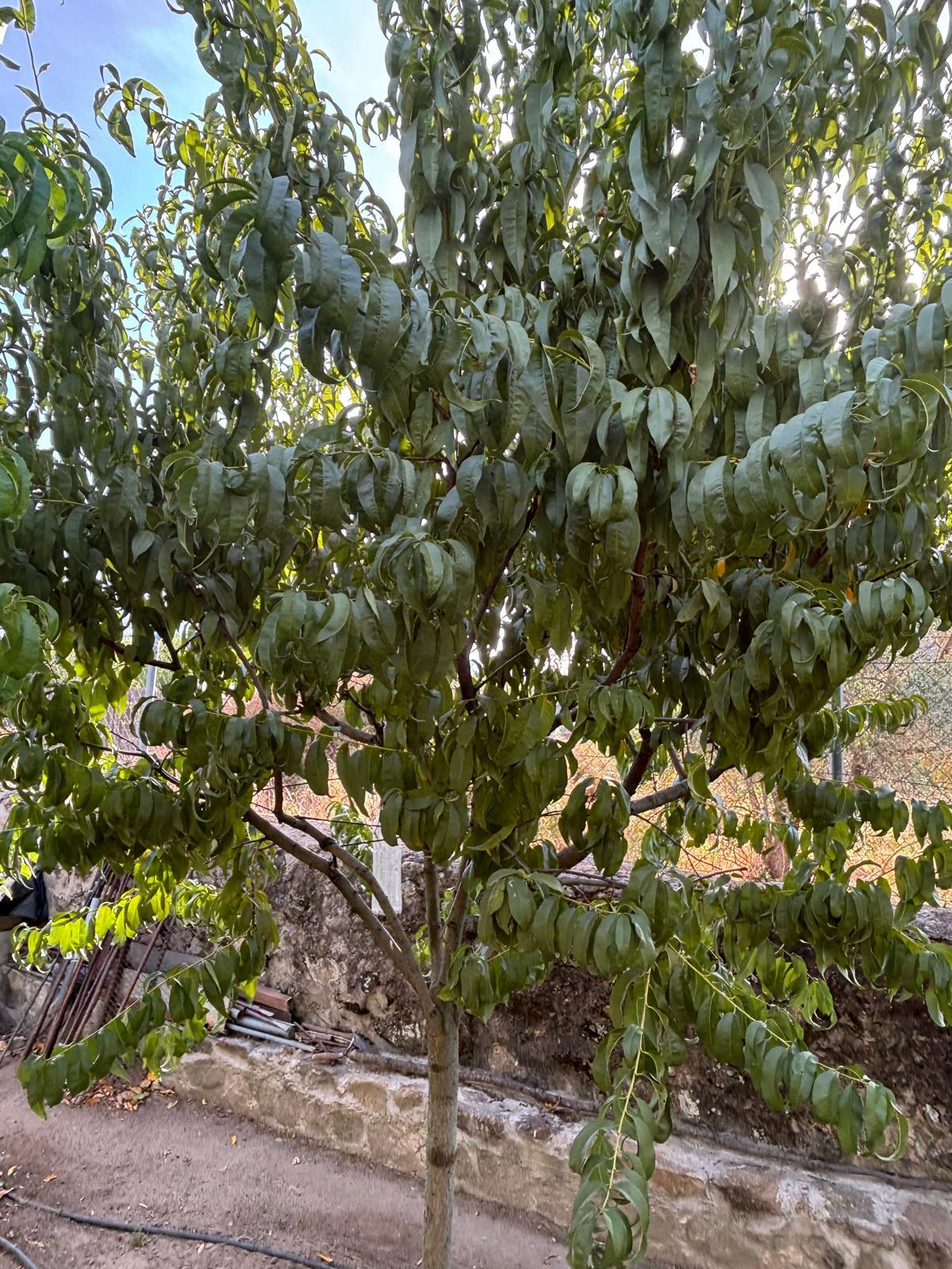melocotonero: (180, 265, 798, 1269)
